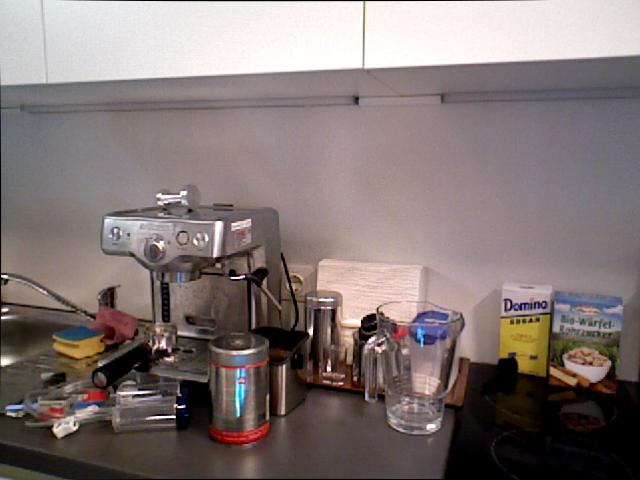bird: (561, 347, 611, 383)
couch: (0, 308, 79, 378)
handbag: (372, 298, 465, 435)
